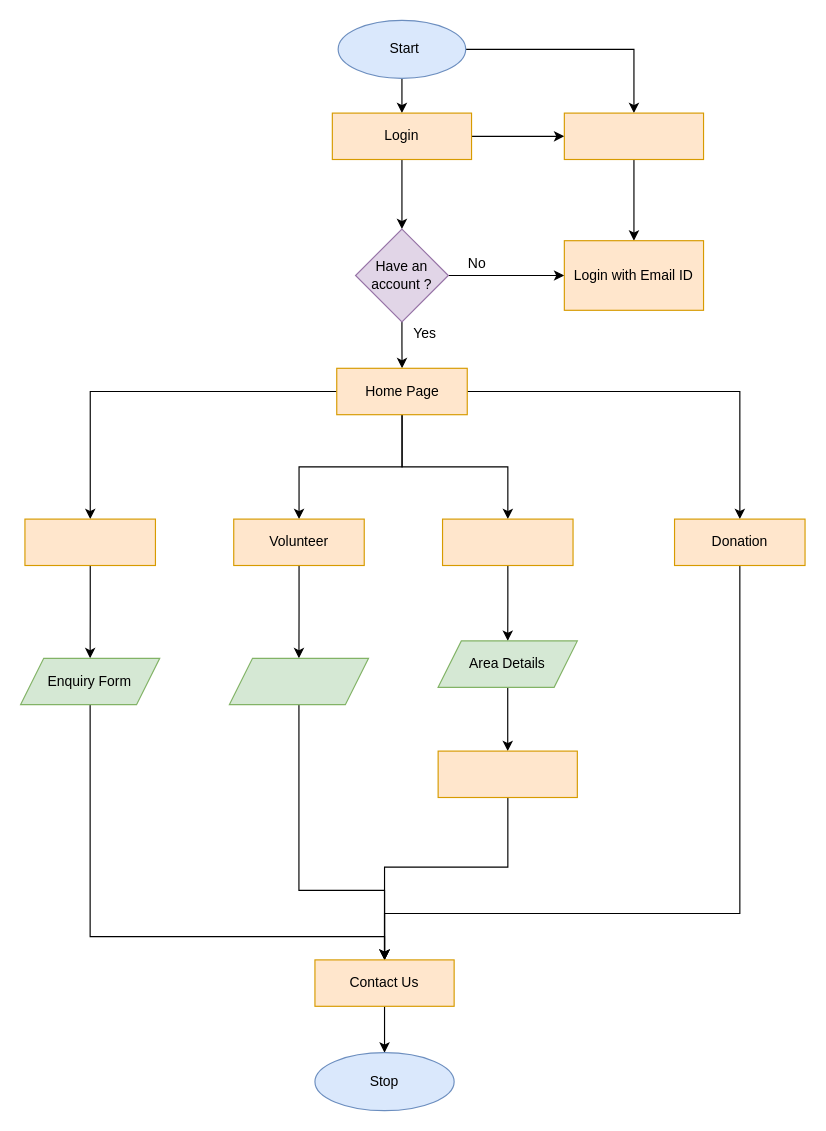
Some shapes in this 826 by 1131 pixel diagram are drawn without their labels. The shapes that lost their labels are listed below. From the top down, each one's centre as x and y in pixels, then its label:
At [633,136]: "Signup".
At [89,542]: "Adoption".
At [507,542]: "Rescue".
At [298,681]: "Choose Slot".
At [507,774]: "NGO Map".
